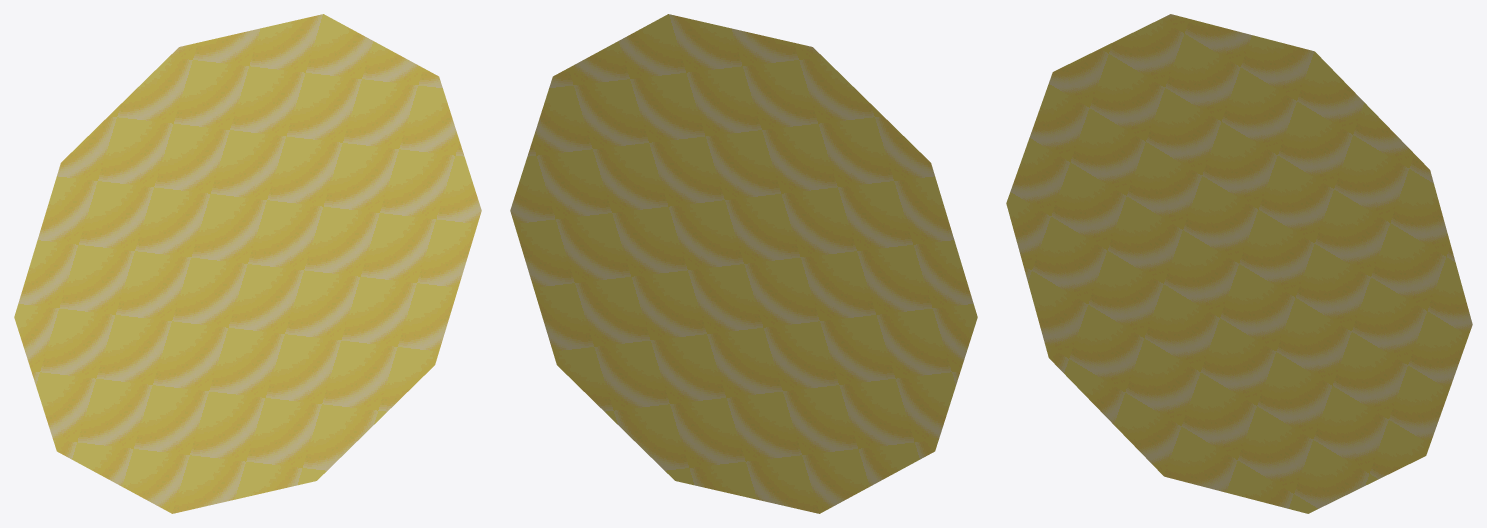
3 renders of one model, left to right at view 1: azimuth 30°, elevation 25°; view 2: azimuth 150°, elevation 25°; view 3: azimuth 330°, elevation 25°, orthographic.
Visible parts, largest first — view 1: ef_625; view 2: ef_625; view 3: ef_625.
Part boxes in pixels (left/top/right/bottom): ef_625: left=14, top=14, right=481, bottom=513; ef_625: left=510, top=14, right=977, bottom=513; ef_625: left=1006, top=14, right=1472, bottom=513.
Bounding box in the file's own units: 0.8188 × 0.7823 × 0.
1 material, 1 textured.
